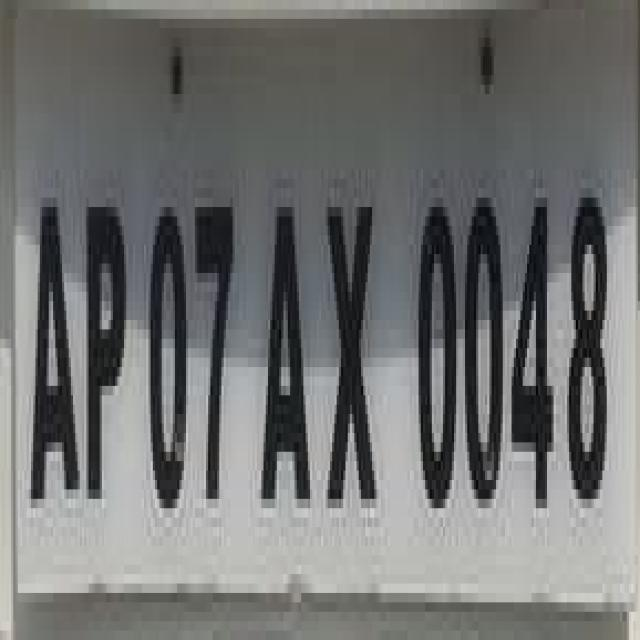license_plate: (24, 0, 640, 621)
